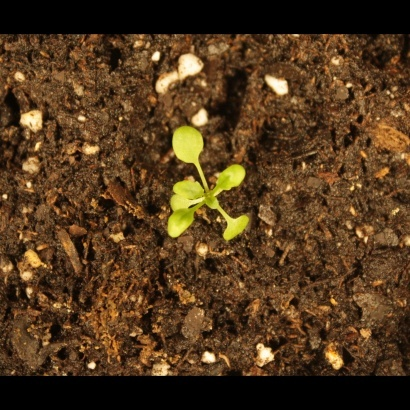leaf: (167, 123, 212, 168), (213, 161, 251, 194), (220, 215, 254, 246), (166, 207, 197, 241), (174, 177, 208, 201), (167, 190, 197, 216), (202, 189, 225, 212)
